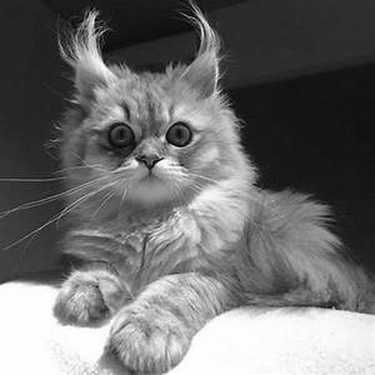cat: (49, 1, 373, 369)
